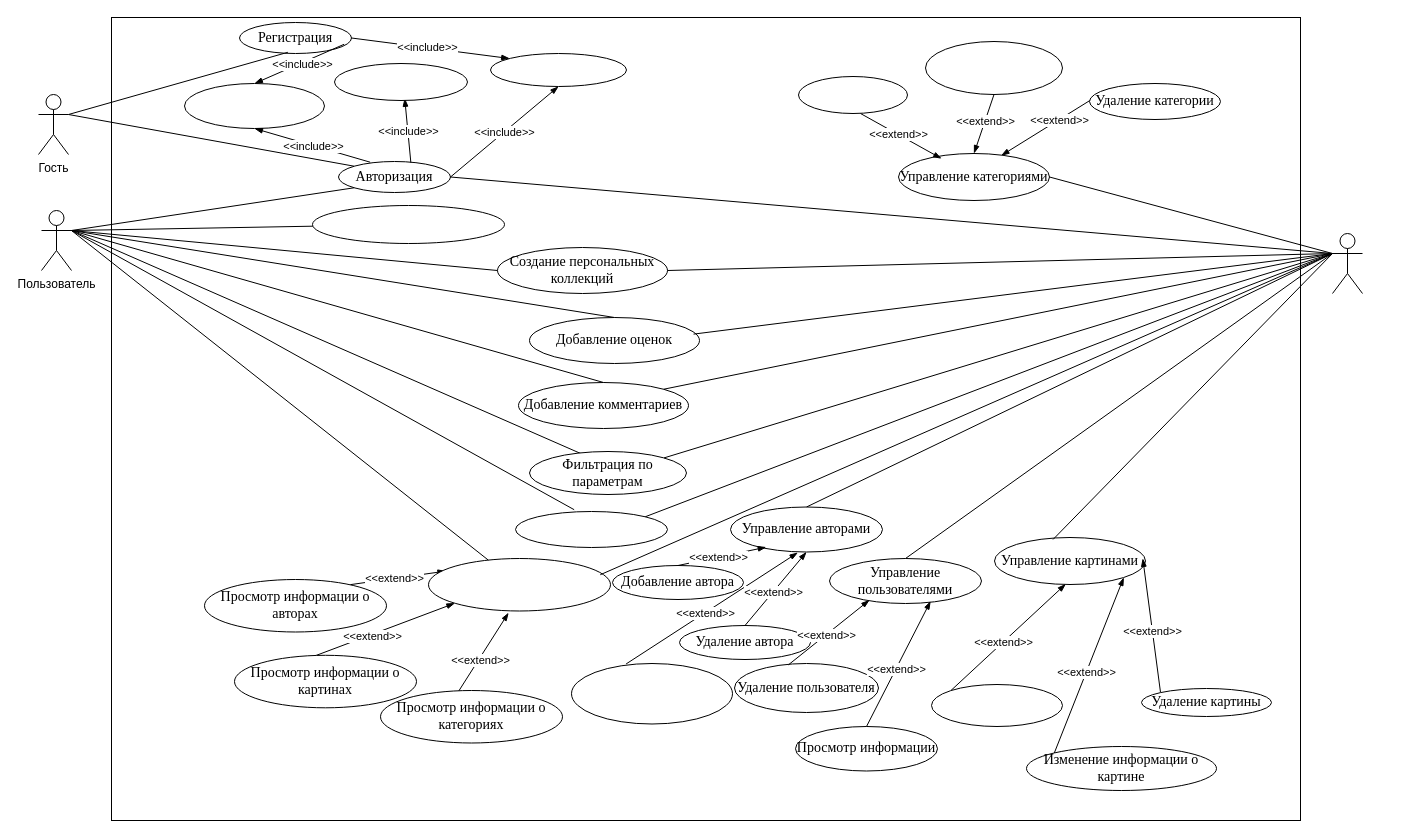
Some shapes in this 1408 by 838 pixel diagram are drawn without their labels. The centre of each missing label's shape, as x and y in pixels:
"Администратор" goes at [1347,263].
"Ввод никнейма" goes at [401,81].
"Ввод пароля" goes at [558,69].
"Ввод электронной почты" goes at [254,105].
"Добавление картины" goes at [996,705].
"Добавление категории" goes at [853,95].
"Доступ к информации" goes at [519,584].
"Изменение информации о категории" goes at [993,67].
"Изменение информации об авторе" goes at [651,693].
"Изменение личных данных" goes at [408,224].
"Поиск по названию" goes at [591,529].
